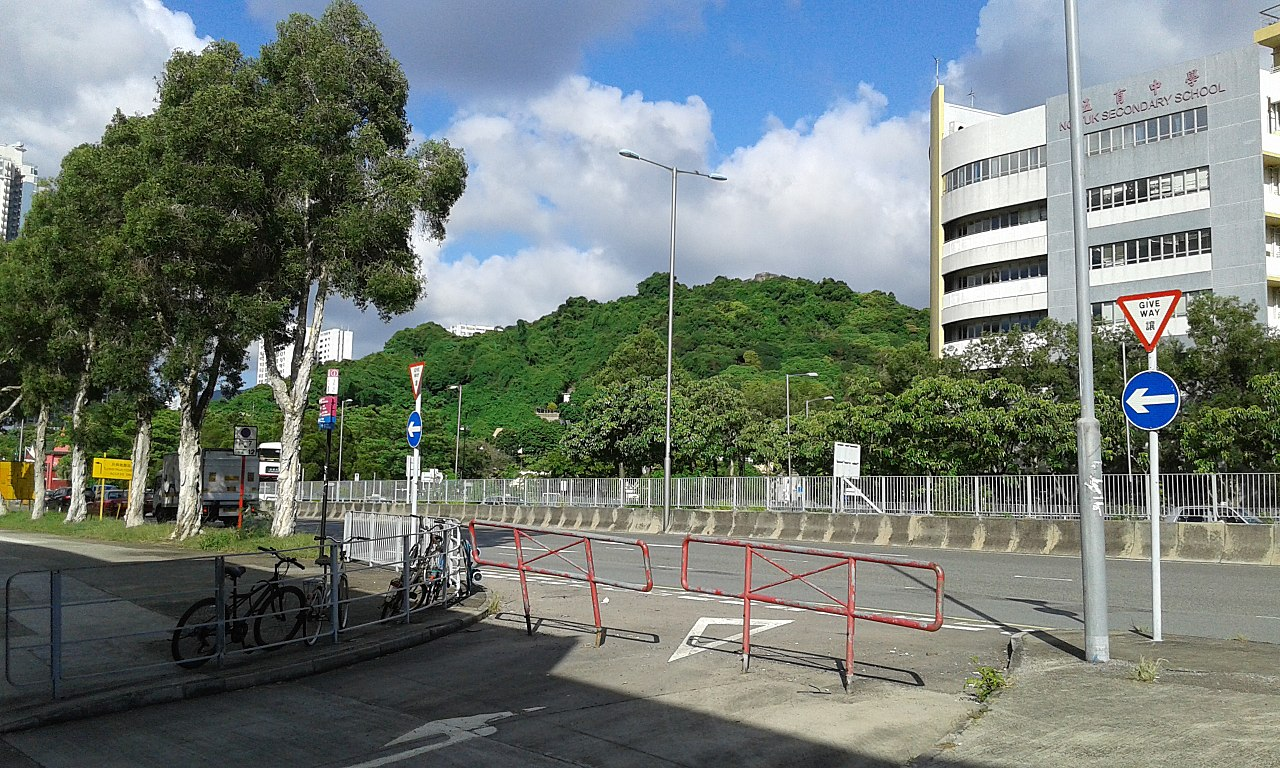Give Way: (1118, 289, 1181, 353), (406, 362, 428, 398)
Turn Left: (1121, 369, 1182, 433), (404, 411, 426, 450)
